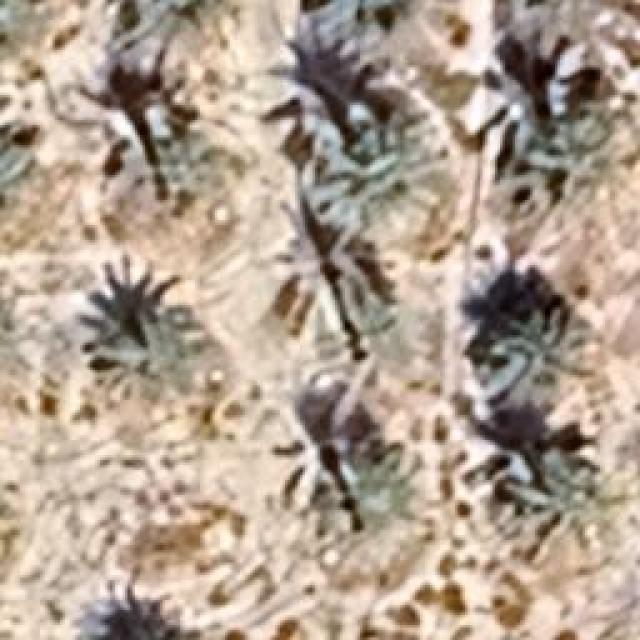PalmTree: (470, 47, 632, 211), (93, 42, 130, 618), (290, 75, 420, 213), (112, 94, 232, 228), (495, 445, 623, 570), (88, 286, 202, 414), (472, 302, 598, 416), (488, 106, 608, 222), (275, 220, 380, 348), (306, 286, 418, 396), (512, 0, 638, 88), (270, 412, 368, 512), (115, 0, 242, 67), (109, 0, 236, 60), (0, 108, 40, 224), (0, 0, 39, 74), (0, 268, 24, 382)
